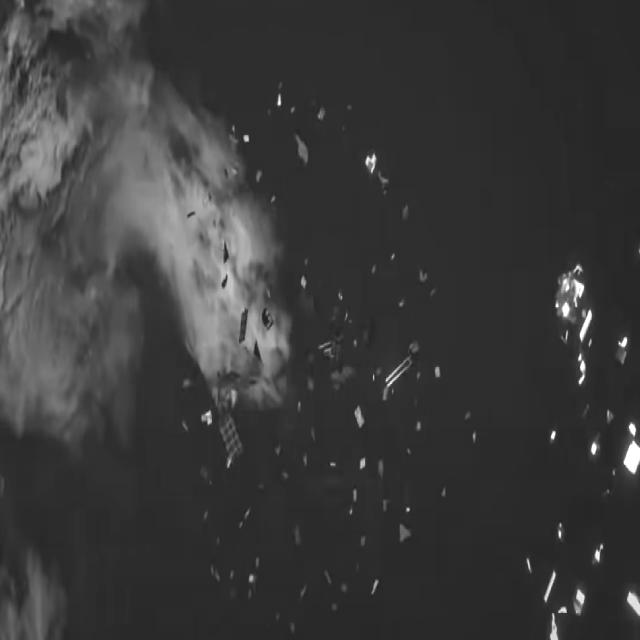large_debris: (443, 0, 455, 115)
